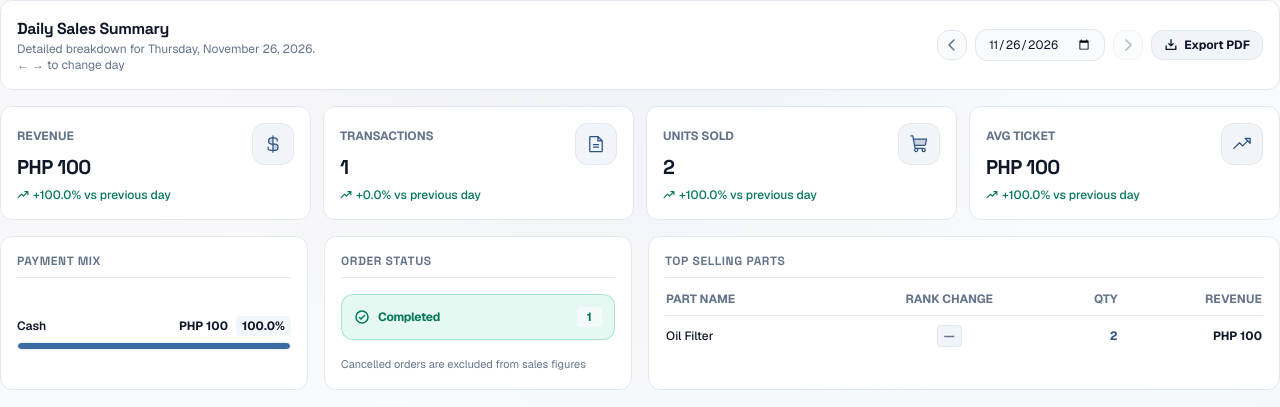
DailySalesSummary step 5 › arrow keys › still steps when a day button has focus after being clicked
Click the button named "Previous day" at (952, 45), box [937,30,967,60]
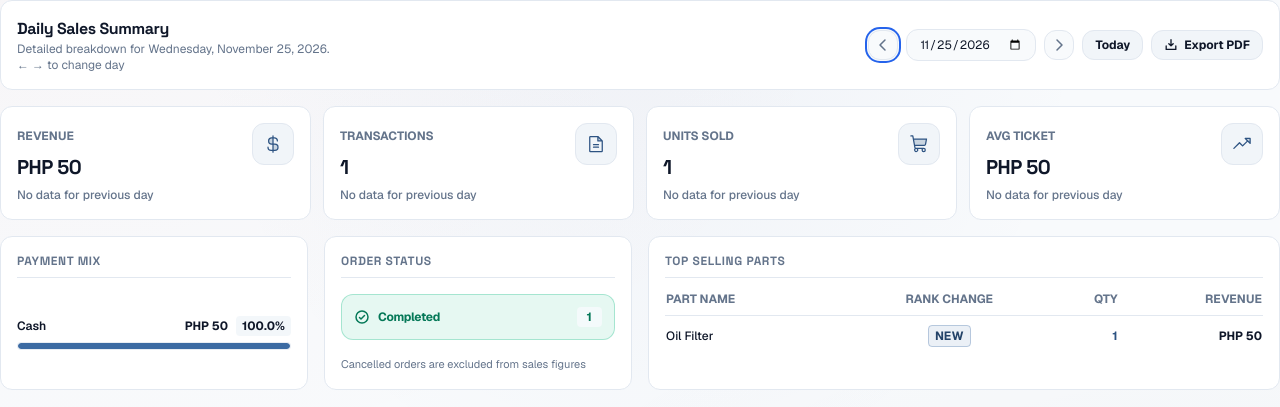
Press ArrowLeft in the button named "Previous day", box [868,30,898,60]
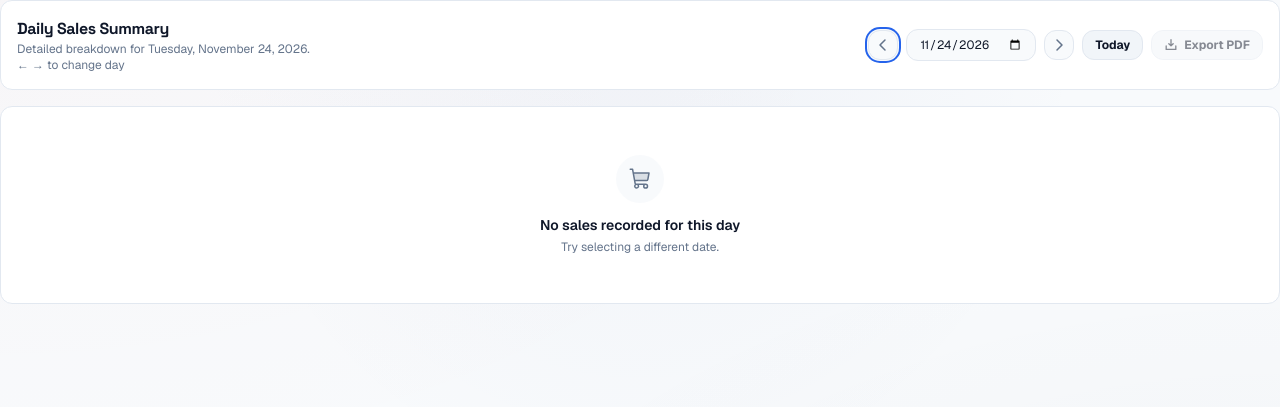
Result: the date field holds "2026-11-24" at [906,29,1036,61]
